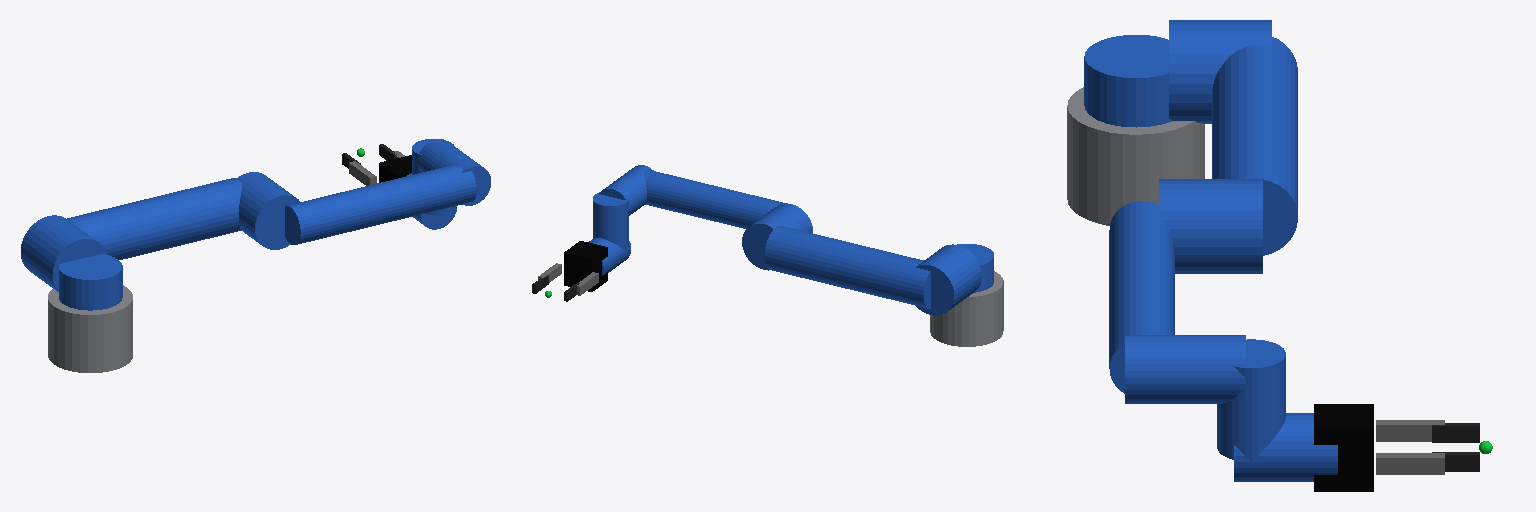
URDF robot description (maxlab_ur7e):
<?xml version='1.0' encoding='utf-8'?>
<robot name="maxlab_ur7e">
  <material name="collision_blue">
    <color rgba="0.2 0.42 0.78 0.55" />
  </material>
  <material name="base_gray">
    <color rgba="0.55 0.56 0.58 1" />
  </material>
  <material name="robotiq_black">
    <color rgba="0.05 0.05 0.05 1" />
  </material>
  <material name="robotiq_gray">
    <color rgba="0.46 0.46 0.46 1" />
  </material>
  <material name="robotiq_pad">
    <color rgba="0.18 0.18 0.18 1" />
  </material>
  <material name="pinch_green">
    <color rgba="0.1 0.8 0.25 1" />
  </material>
  <link name="base">
    <inertial>
      <mass value="4.0" />
      <origin xyz="0 0 0" rpy="0 0 0" />
      <inertia ixx="0.00443333156" ixy="0" ixz="0" iyy="0.00443333156" iyz="0" izz="0.0072" />
    </inertial>
    <visual name="base_primitive">
      <origin xyz="0 0 0.06" rpy="0 0 0" />
      <geometry>
        <cylinder radius="0.08" length="0.12" />
      </geometry>
      <material name="base_gray" />
    </visual>
    <collision name="base_primitive">
      <origin xyz="0 0 0.06" rpy="0 0 0" />
      <geometry>
        <cylinder radius="0.08" length="0.12" />
      </geometry>
    </collision>
  </link>
  <link name="shoulder_link">
    <inertial>
      <mass value="3.7" />
      <origin xyz="0 0 0" rpy="0 0 0" />
      <inertia ixx="0.0102675" ixy="0" ixz="0" iyy="0.0102675" iyz="0" izz="0.00666" />
    </inertial>
    <visual name="shoulder_collision">
      <origin xyz="0 0 -0.04" rpy="0 0 0" />
      <geometry>
        <cylinder radius="0.06" length="0.12" />
      </geometry>
      <material name="collision_blue" />
    </visual>
    <collision name="shoulder_collision">
      <origin xyz="0 0 -0.04" rpy="0 0 0" />
      <geometry>
        <cylinder radius="0.06" length="0.12" />
      </geometry>
    </collision>
  </link>
  <joint name="shoulder_pan_joint" type="revolute">
    <parent link="base" />
    <child link="shoulder_link" />
    <origin xyz="0 0 0.163" rpy="0 0 0" />
    <axis xyz="0 0 1" />
    <limit lower="-6.28319" upper="6.28319" effort="150.0" velocity="3.141592653589793" />
  </joint>
  <link name="upper_arm_link">
    <inertial>
      <mass value="8.393" />
      <origin xyz="0 0 0.2125" rpy="0 0 0" />
      <inertia ixx="0.133886" ixy="0" ixz="0" iyy="0.133886" iyz="0" izz="0.0151074" />
    </inertial>
    <visual name="upper_arm_shoulder_collision">
      <origin xyz="0 -0.04 0" rpy="1.57079633 0 0" />
      <geometry>
        <cylinder radius="0.06" length="0.12" />
      </geometry>
      <material name="collision_blue" />
    </visual>
    <collision name="upper_arm_shoulder_collision">
      <origin xyz="0 -0.04 0" rpy="1.57079633 0 0" />
      <geometry>
        <cylinder radius="0.06" length="0.12" />
      </geometry>
    </collision>
    <visual name="upper_arm_collision">
      <origin xyz="0 0 0.2" rpy="0 0 0" />
      <geometry>
        <cylinder radius="0.05" length="0.4" />
      </geometry>
      <material name="collision_blue" />
    </visual>
    <collision name="upper_arm_collision">
      <origin xyz="0 0 0.2" rpy="0 0 0" />
      <geometry>
        <cylinder radius="0.05" length="0.4" />
      </geometry>
    </collision>
  </link>
  <joint name="shoulder_lift_joint" type="revolute">
    <parent link="shoulder_link" />
    <child link="upper_arm_link" />
    <origin xyz="0 0.138 0" rpy="0 1.57079631 0" />
    <axis xyz="0 1 0" />
    <limit lower="-6.28319" upper="6.28319" effort="150.0" velocity="3.141592653589793" />
  </joint>
  <link name="forearm_link">
    <inertial>
      <mass value="2.275" />
      <origin xyz="0 0 0.196" rpy="0 0 0" />
      <inertia ixx="0.0311796" ixy="0" ixz="0" iyy="0.0311796" iyz="0" izz="0.004095" />
    </inertial>
    <visual name="forearm_elbow_collision">
      <origin xyz="0 0.08 0" rpy="1.57079633 0 0" />
      <geometry>
        <cylinder radius="0.055" length="0.12" />
      </geometry>
      <material name="collision_blue" />
    </visual>
    <collision name="forearm_elbow_collision">
      <origin xyz="0 0.08 0" rpy="1.57079633 0 0" />
      <geometry>
        <cylinder radius="0.055" length="0.12" />
      </geometry>
    </collision>
    <visual name="forearm_collision">
      <origin xyz="0 0 0.2" rpy="0 0 0" />
      <geometry>
        <cylinder radius="0.038" length="0.38" />
      </geometry>
      <material name="collision_blue" />
    </visual>
    <collision name="forearm_collision">
      <origin xyz="0 0 0.2" rpy="0 0 0" />
      <geometry>
        <cylinder radius="0.038" length="0.38" />
      </geometry>
    </collision>
  </link>
  <joint name="elbow_joint" type="revolute">
    <parent link="upper_arm_link" />
    <child link="forearm_link" />
    <origin xyz="0 -0.131 0.425" rpy="0 0 0" />
    <axis xyz="0 1 0" />
    <limit lower="-3.1415" upper="3.1415" effort="150.0" velocity="3.141592653589793" />
  </joint>
  <link name="wrist_1_link">
    <inertial>
      <mass value="1.219" />
      <origin xyz="0 0.127 0" rpy="0 0 0" />
      <inertia ixx="0.0025599" ixy="0" ixz="0" iyy="0.0025599" iyz="0" izz="0.0021942" />
    </inertial>
    <visual name="wrist_1_collision">
      <origin xyz="0 0.05 0" rpy="1.57079633 0 0" />
      <geometry>
        <cylinder radius="0.04" length="0.14" />
      </geometry>
      <material name="collision_blue" />
    </visual>
    <collision name="wrist_1_collision">
      <origin xyz="0 0.05 0" rpy="1.57079633 0 0" />
      <geometry>
        <cylinder radius="0.04" length="0.14" />
      </geometry>
    </collision>
  </link>
  <joint name="wrist_1_joint" type="revolute">
    <parent link="forearm_link" />
    <child link="wrist_1_link" />
    <origin xyz="0 0 0.392" rpy="0 1.57079631 0" />
    <axis xyz="0 1 0" />
    <limit lower="-6.28319" upper="6.28319" effort="28.0" velocity="3.141592653589793" />
  </joint>
  <link name="wrist_2_link">
    <inertial>
      <mass value="1.219" />
      <origin xyz="0 0 0.1" rpy="0 0 0" />
      <inertia ixx="0.0025599" ixy="0" ixz="0" iyy="0.0025599" iyz="0" izz="0.0021942" />
    </inertial>
    <visual name="wrist_2_collision">
      <origin xyz="0 0 0.04" rpy="0 0 0" />
      <geometry>
        <cylinder radius="0.04" length="0.12" />
      </geometry>
      <material name="collision_blue" />
    </visual>
    <collision name="wrist_2_collision">
      <origin xyz="0 0 0.04" rpy="0 0 0" />
      <geometry>
        <cylinder radius="0.04" length="0.12" />
      </geometry>
    </collision>
    <visual name="wrist_2_tip_collision">
      <origin xyz="0 0.02 0.1" rpy="1.57079633 0 0" />
      <geometry>
        <cylinder radius="0.04" length="0.08" />
      </geometry>
      <material name="collision_blue" />
    </visual>
    <collision name="wrist_2_tip_collision">
      <origin xyz="0 0.02 0.1" rpy="1.57079633 0 0" />
      <geometry>
        <cylinder radius="0.04" length="0.08" />
      </geometry>
    </collision>
  </link>
  <joint name="wrist_2_joint" type="revolute">
    <parent link="wrist_1_link" />
    <child link="wrist_2_link" />
    <origin xyz="0 0.127 0" rpy="0 0 0" />
    <axis xyz="0 0 1" />
    <limit lower="-6.28319" upper="6.28319" effort="28.0" velocity="3.141592653589793" />
  </joint>
  <link name="wrist_3_link">
    <inertial>
      <mass value="0.1889" />
      <origin xyz="0 0.0771683 0" rpy="0 0 1.57079633" />
      <inertia ixx="0.000132134" ixy="0" ixz="0" iyy="9.90863e-05" iyz="0" izz="9.90863e-05" />
    </inertial>
    <visual name="wrist_3_collision">
      <origin xyz="0 0.08 0" rpy="1.57079633 0 0" />
      <geometry>
        <cylinder radius="0.04" length="0.04" />
      </geometry>
      <material name="collision_blue" />
    </visual>
    <collision name="wrist_3_collision">
      <origin xyz="0 0.08 0" rpy="1.57079633 0 0" />
      <geometry>
        <cylinder radius="0.04" length="0.04" />
      </geometry>
    </collision>
  </link>
  <joint name="wrist_3_joint" type="revolute">
    <parent link="wrist_2_link" />
    <child link="wrist_3_link" />
    <origin xyz="0 0 0.1" rpy="0 0 0" />
    <axis xyz="0 1 0" />
    <limit lower="-6.28319" upper="6.28319" effort="28.0" velocity="3.141592653589793" />
  </joint>
  <link name="tool0">
    <inertial>
      <mass value="0.01" />
      <origin xyz="0 0 0" rpy="0 0 0" />
      <inertia ixx="0.00001" ixy="0" ixz="0" iyy="0.00001" iyz="0" izz="0.00001" />
    </inertial>
    <visual name="tool0_marker">
      <origin xyz="0 0 0" rpy="0 0 0" />
      <geometry>
        <sphere radius="0.01" />
      </geometry>
      <material name="collision_blue" />
    </visual>
    <collision name="tool0_marker">
      <origin xyz="0 0 0" rpy="0 0 0" />
      <geometry>
        <sphere radius="0.01" />
      </geometry>
    </collision>
  </link>
  <joint name="wrist_3_to_tool0" type="fixed">
    <parent link="wrist_3_link" />
    <child link="tool0" />
    <origin xyz="0 0.107 0" rpy="-1.570796327 0 0" />
  </joint>
  <link name="pinch_center">
    <inertial>
      <mass value="0.001" />
      <origin xyz="0 0 0" rpy="0 0 0" />
      <inertia ixx="0.000001" ixy="0" ixz="0" iyy="0.000001" iyz="0" izz="0.000001" />
    </inertial>
    <visual name="pinch_center_marker">
      <origin xyz="0 0 0" rpy="0 0 0" />
      <geometry>
        <sphere radius="0.008" />
      </geometry>
      <material name="pinch_green" />
    </visual>
  </link>
  <joint name="tool0_to_pinch_center" type="fixed">
    <parent link="tool0" />
    <child link="pinch_center" />
    <origin xyz="0 0 0.165" rpy="0 0 0" />
  </joint>
  <link name="robotiq_base">
    <inertial>
      <mass value="0.78" />
      <origin xyz="0 0 0" rpy="0 0 0" />
      <inertia ixx="0.0006370000000000001" ixy="0" ixz="0" iyy="0.0007345" iyz="0" izz="0.0007345" />
    </inertial>
    <visual name="robotiq_base">
      <origin xyz="0 0 0" rpy="0 0 0" />
      <geometry>
        <box size="0.08 0.07 0.07" />
      </geometry>
      <material name="robotiq_black" />
    </visual>
    <collision name="robotiq_base">
      <origin xyz="0 0 0" rpy="0 0 0" />
      <geometry>
        <box size="0.08 0.07 0.07" />
      </geometry>
    </collision>
  </link>
  <joint name="tool0_to_robotiq_base" type="fixed">
    <parent link="tool0" />
    <child link="robotiq_base" />
    <origin xyz="0 0 0" rpy="0 0 1.570796327" />
  </joint>
  <link name="robotiq_right_finger">
    <inertial>
      <mass value="0.04" />
      <origin xyz="0 0 0" rpy="0 0 0" />
      <inertia ixx="2.1986666666666667e-05" ixy="0" ixz="0" iyy="2.2946666666666672e-05" iyz="0" izz="2.2666666666666664e-06" />
    </inertial>
    <visual name="robotiq_right_finger">
      <origin xyz="0 0 0" rpy="0 0 0" />
      <geometry>
        <box size="0.022 0.014 0.08" />
      </geometry>
      <material name="robotiq_gray" />
    </visual>
    <collision name="robotiq_right_finger">
      <origin xyz="0 0 0" rpy="0 0 0" />
      <geometry>
        <box size="0.022 0.014 0.08" />
      </geometry>
    </collision>
  </link>
  <joint name="robotiq_base_to_robotiq_right_finger" type="fixed">
    <parent link="robotiq_base" />
    <child link="robotiq_right_finger" />
    <origin xyz="0 0.046 0.078" rpy="0 0 0" />
  </joint>
  <link name="robotiq_left_finger">
    <inertial>
      <mass value="0.04" />
      <origin xyz="0 0 0" rpy="0 0 0" />
      <inertia ixx="2.1986666666666667e-05" ixy="0" ixz="0" iyy="2.2946666666666672e-05" iyz="0" izz="2.2666666666666664e-06" />
    </inertial>
    <visual name="robotiq_left_finger">
      <origin xyz="0 0 0" rpy="0 0 0" />
      <geometry>
        <box size="0.022 0.014 0.08" />
      </geometry>
      <material name="robotiq_gray" />
    </visual>
    <collision name="robotiq_left_finger">
      <origin xyz="0 0 0" rpy="0 0 0" />
      <geometry>
        <box size="0.022 0.014 0.08" />
      </geometry>
    </collision>
  </link>
  <joint name="robotiq_base_to_robotiq_left_finger" type="fixed">
    <parent link="robotiq_base" />
    <child link="robotiq_left_finger" />
    <origin xyz="0 -0.046 0.078" rpy="0 0 0" />
  </joint>
  <link name="robotiq_right_pad">
    <inertial>
      <mass value="0.004" />
      <origin xyz="0 0 0" rpy="0 0 0" />
      <inertia ixx="1.0666666666666667e-06" ixy="0" ixz="0" iyy="1.2066666666666668e-06" iyz="0" izz="1.8266666666666666e-07" />
    </inertial>
    <visual name="robotiq_right_pad">
      <origin xyz="0 0 0" rpy="0 0 0" />
      <geometry>
        <box size="0.022 0.008 0.056" />
      </geometry>
      <material name="robotiq_pad" />
    </visual>
    <collision name="robotiq_right_pad">
      <origin xyz="0 0 0" rpy="0 0 0" />
      <geometry>
        <box size="0.022 0.008 0.056" />
      </geometry>
    </collision>
  </link>
  <joint name="robotiq_right_finger_to_robotiq_right_pad" type="fixed">
    <parent link="robotiq_right_finger" />
    <child link="robotiq_right_pad" />
    <origin xyz="0 -0.006 0.052" rpy="0 0 0" />
  </joint>
  <link name="robotiq_left_pad">
    <inertial>
      <mass value="0.004" />
      <origin xyz="0 0 0" rpy="0 0 0" />
      <inertia ixx="1.0666666666666667e-06" ixy="0" ixz="0" iyy="1.2066666666666668e-06" iyz="0" izz="1.8266666666666666e-07" />
    </inertial>
    <visual name="robotiq_left_pad">
      <origin xyz="0 0 0" rpy="0 0 0" />
      <geometry>
        <box size="0.022 0.008 0.056" />
      </geometry>
      <material name="robotiq_pad" />
    </visual>
    <collision name="robotiq_left_pad">
      <origin xyz="0 0 0" rpy="0 0 0" />
      <geometry>
        <box size="0.022 0.008 0.056" />
      </geometry>
    </collision>
  </link>
  <joint name="robotiq_left_finger_to_robotiq_left_pad" type="fixed">
    <parent link="robotiq_left_finger" />
    <child link="robotiq_left_pad" />
    <origin xyz="0 0.006 0.052" rpy="0 0 0" />
  </joint>
</robot>

--- What the picture shows (computed from the rendered views, not written in the file) ---
Views: 3 orthographic renders of the robot side by side, from view 1: azimuth 30°, elevation 25°; view 2: azimuth 150°, elevation 25°; view 3: azimuth 270°, elevation 25°.
Robot: maxlab_ur7e — 14 links, 13 joints (6 revolute, 7 fixed); root link base; default pose: every joint at zero.
Links seen in each view (by area): view 1: upper_arm_link, forearm_link, base, shoulder_link, wrist_1_link, wrist_2_link, robotiq_base; view 2: upper_arm_link, forearm_link, base, wrist_2_link, robotiq_base, wrist_1_link, shoulder_link; view 3: upper_arm_link, forearm_link, base, wrist_2_link, wrist_1_link, shoulder_link, robotiq_base, robotiq_right_finger, wrist_3_link, robotiq_left_finger, robotiq_left_pad, robotiq_right_pad.
Boxes of the visible links, x1,y1,x2,y2 form: upper_arm_link: (21,178,241,291); forearm_link: (237,164,476,249); base: (48,285,132,372); shoulder_link: (59,254,122,310); wrist_1_link: (417,139,490,205); wrist_2_link: (412,139,456,229); robotiq_base: (379,155,411,182); upper_arm_link: (764,226,981,315); forearm_link: (644,170,812,270); base: (930,271,1003,346); wrist_2_link: (589,192,630,271); robotiq_base: (564,241,607,291); wrist_1_link: (599,165,653,215); shoulder_link: (957,244,993,292); upper_arm_link: (1169,20,1297,255); forearm_link: (1109,179,1262,393); base: (1067,87,1204,225); wrist_2_link: (1217,339,1302,481); wrist_1_link: (1125,335,1245,403); shoulder_link: (1084,35,1171,127); robotiq_base: (1314,404,1373,491); robotiq_right_finger: (1376,453,1444,474); wrist_3_link: (1303,413,1337,481); robotiq_left_finger: (1376,420,1444,441); robotiq_left_pad: (1432,423,1479,442); robotiq_right_pad: (1432,452,1479,471).
Size in the robot's own frame: 0.95 by 0.494 by 0.223 metres.
Geometry: primitives only (box / cylinder / sphere), no mesh files.
